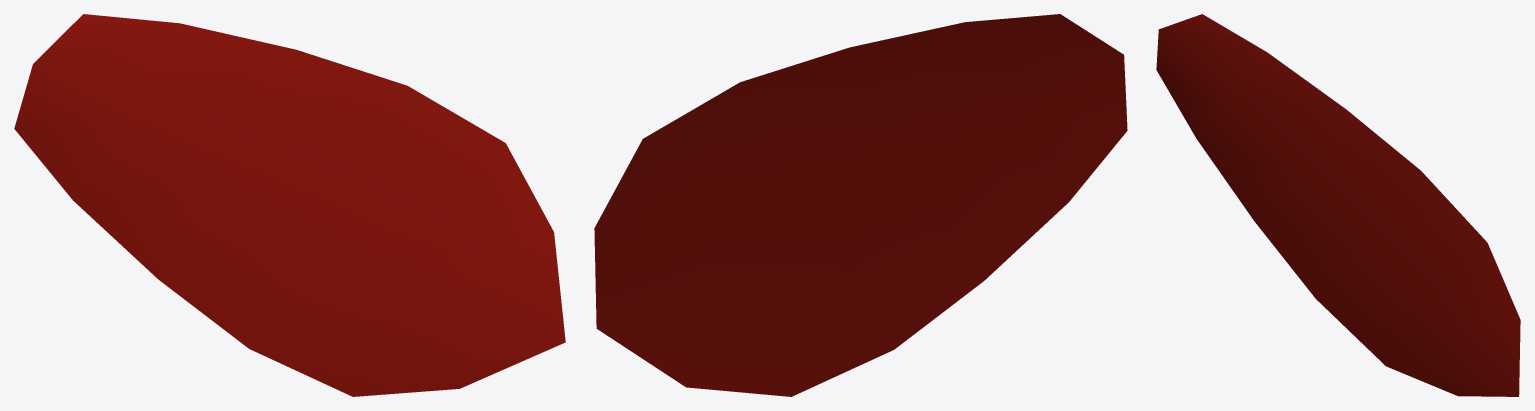
The model's file is ara_feather_flight_tertiary_028.obj.
3 views of the same model, side by side, from view 1: azimuth 30°, elevation 25°; view 2: azimuth 150°, elevation 25°; view 3: azimuth 330°, elevation 25° (orthographic). The views are drawn at different scales.
Parts seen in each view (by area): view 1: feather_flight_tertiary_028; view 2: feather_flight_tertiary_028; view 3: feather_flight_tertiary_028.
Part boxes in pixels (bbox=[...]): feather_flight_tertiary_028: bbox=[14, 14, 565, 396]; feather_flight_tertiary_028: bbox=[594, 14, 1127, 396]; feather_flight_tertiary_028: bbox=[1156, 14, 1520, 396].
Size of the model in its own units: 0.0313 by 0.0257 by 0.00111.
